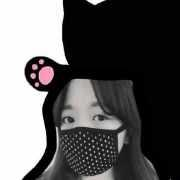OK: (58, 95, 128, 172)
